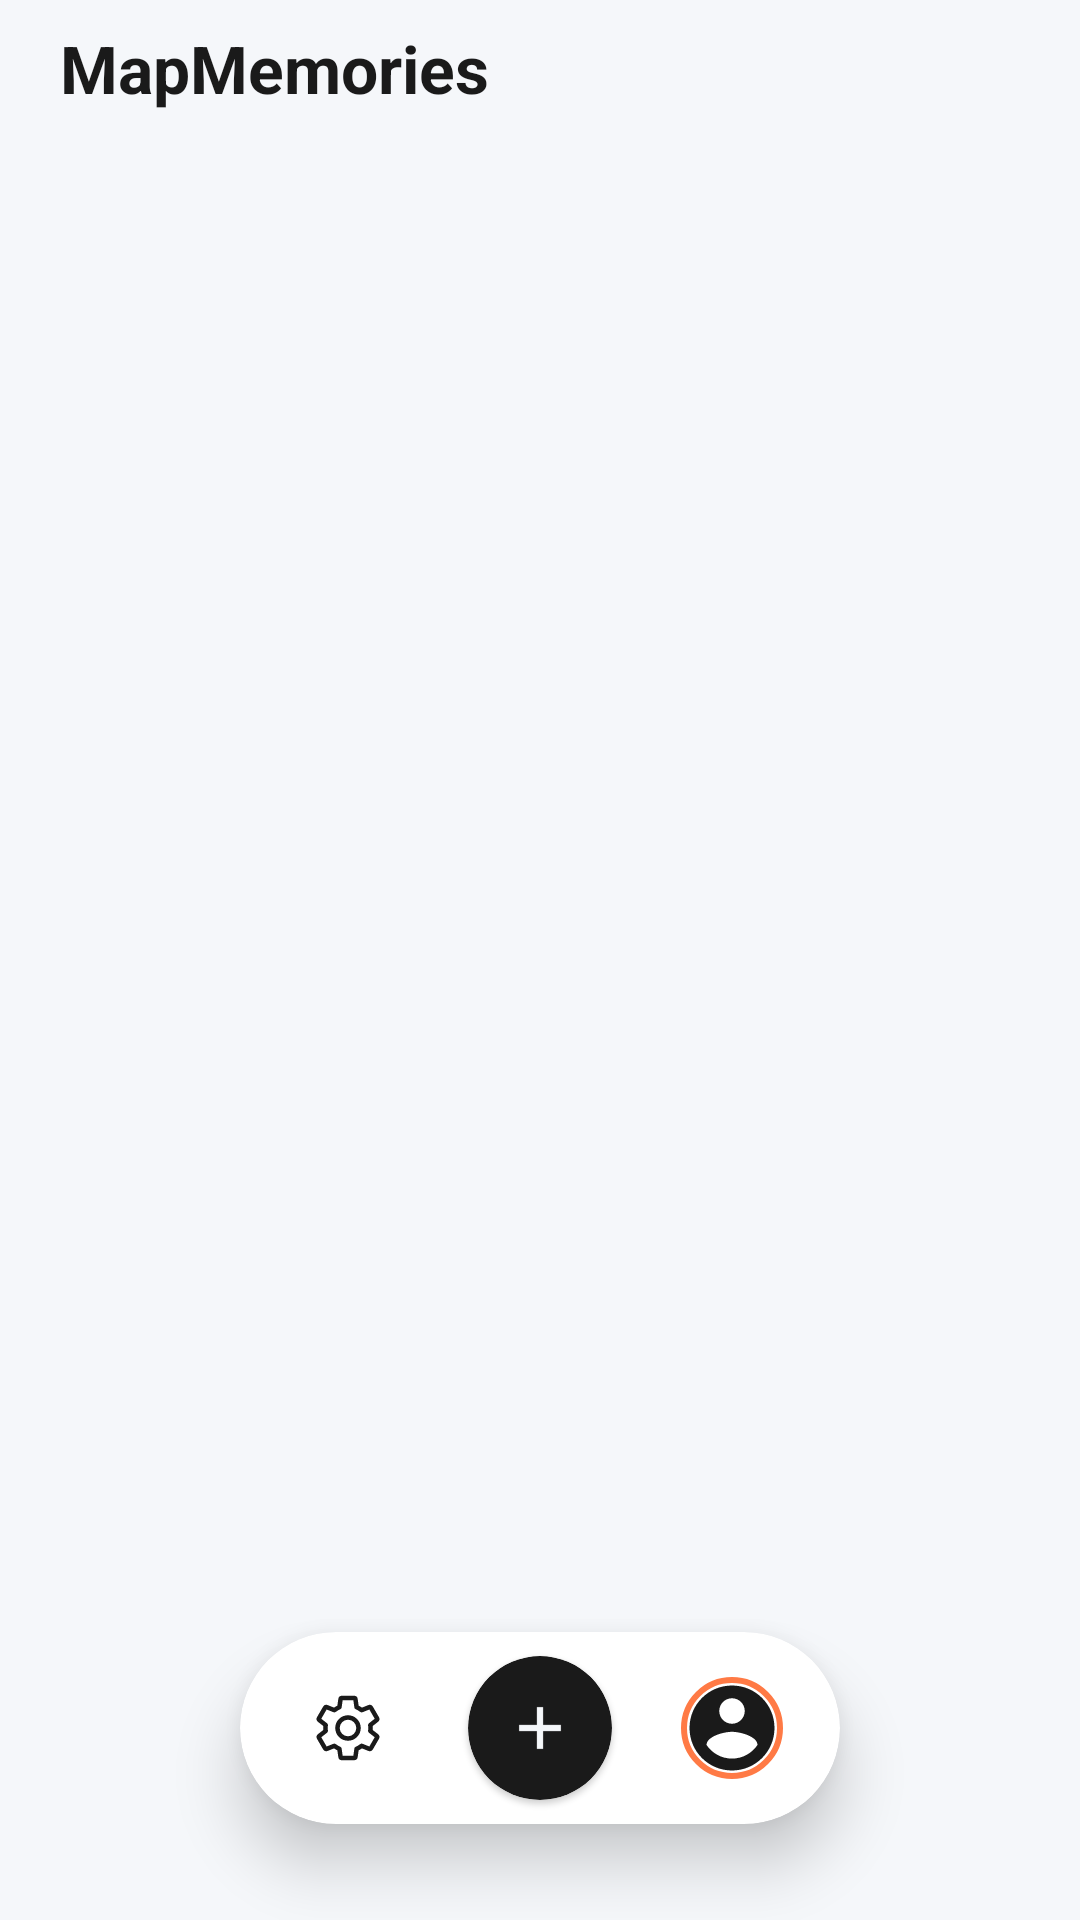

Where to tap for icons on this 1080w x 1920h app screen, as (x,y):
avd add rotate: (540,1728)
setting: (348,1728)
